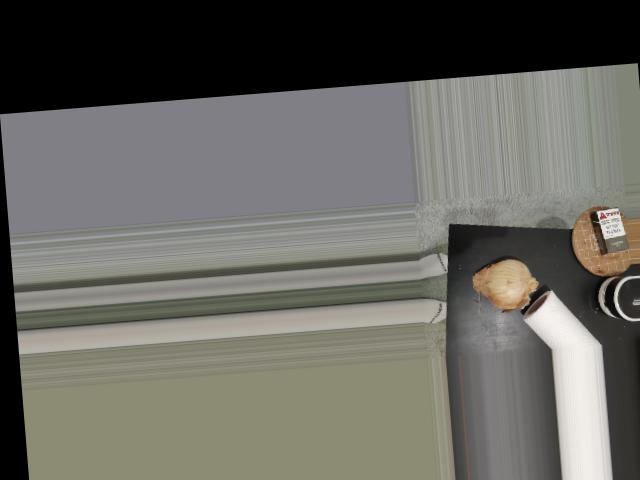onion: (473, 254, 539, 308)
